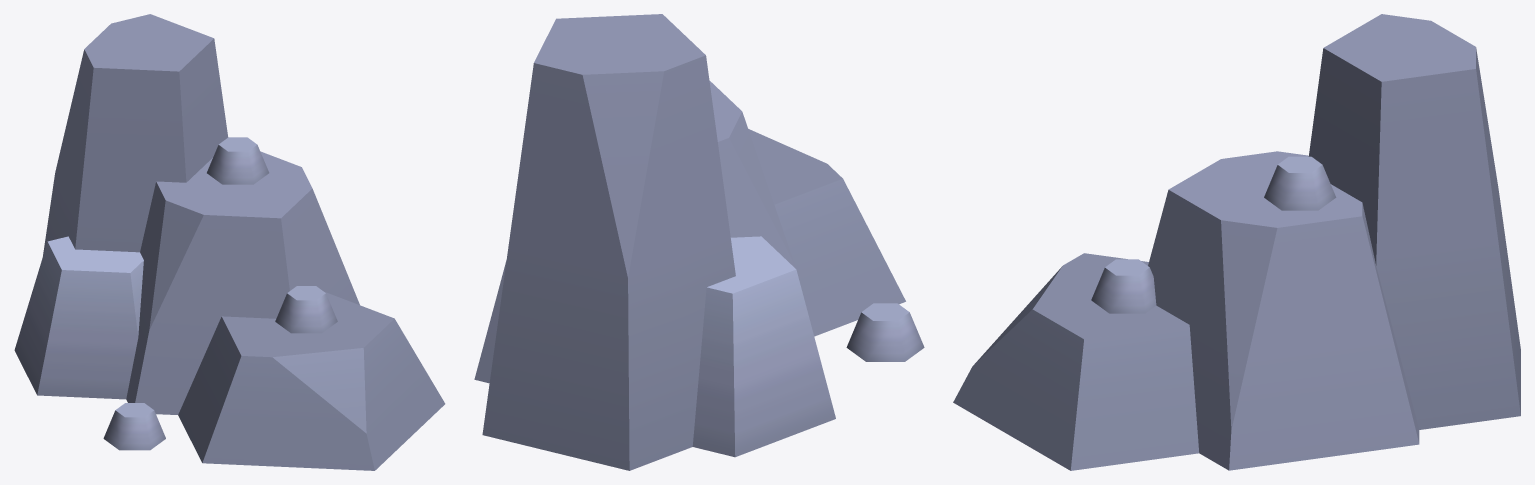
The model's file is rock-wide.glb.
3 views of the same model, side by side, from view 1: azimuth 30°, elevation 25°; view 2: azimuth 150°, elevation 25°; view 3: azimuth 270°, elevation 25° (orthographic). The views are drawn at different scales.
Parts seen in each view (by area): view 1: rock-wide; view 2: rock-wide; view 3: rock-wide.
Boxes of the visible parts, x1,y1,x2,y2 form: rock-wide: (14, 14, 445, 470); rock-wide: (474, 14, 924, 470); rock-wide: (953, 14, 1520, 470).
Bounding box in the file's own units: 1.09 × 1.02 × 1.57.
Materials: 1 (1 with a texture image).
